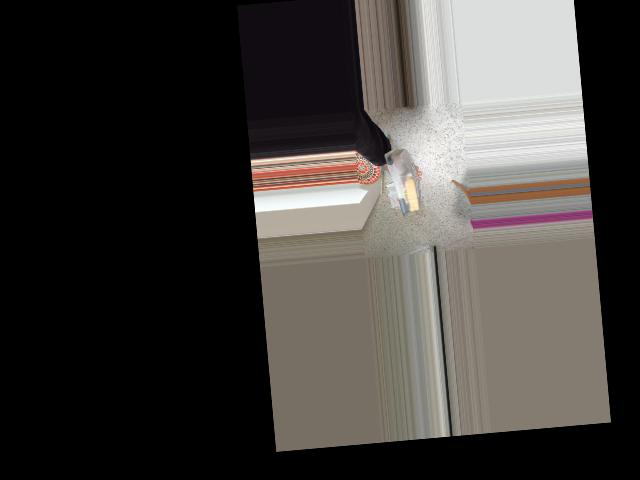cheese: (381, 144, 423, 216)
